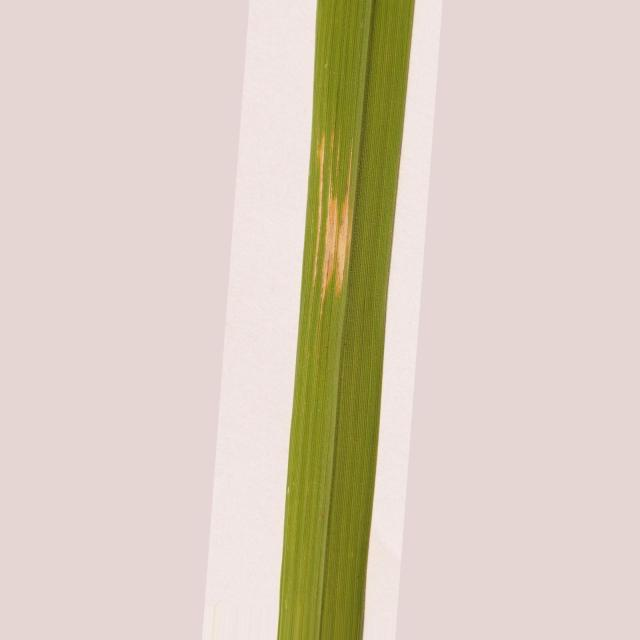Bacterial_Leaf_Blight: (316, 122, 349, 299)
